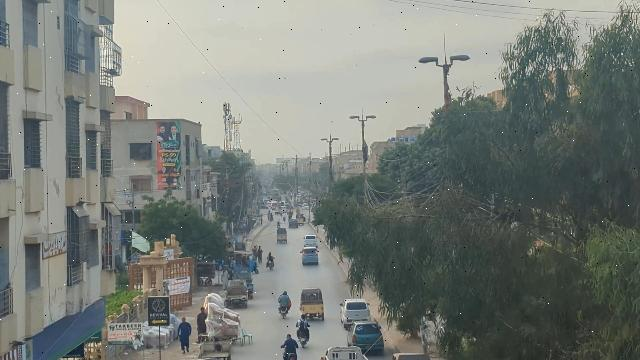Bike: (298, 330, 309, 350), (278, 304, 289, 320)
Car: (344, 320, 385, 354), (340, 298, 371, 327), (300, 246, 320, 267)
Person: (176, 315, 192, 355), (195, 304, 206, 340), (295, 312, 310, 330), (284, 333, 297, 353), (278, 290, 290, 306)
Rickshaw: (299, 287, 328, 321)
Suzuki: (224, 278, 251, 309)
